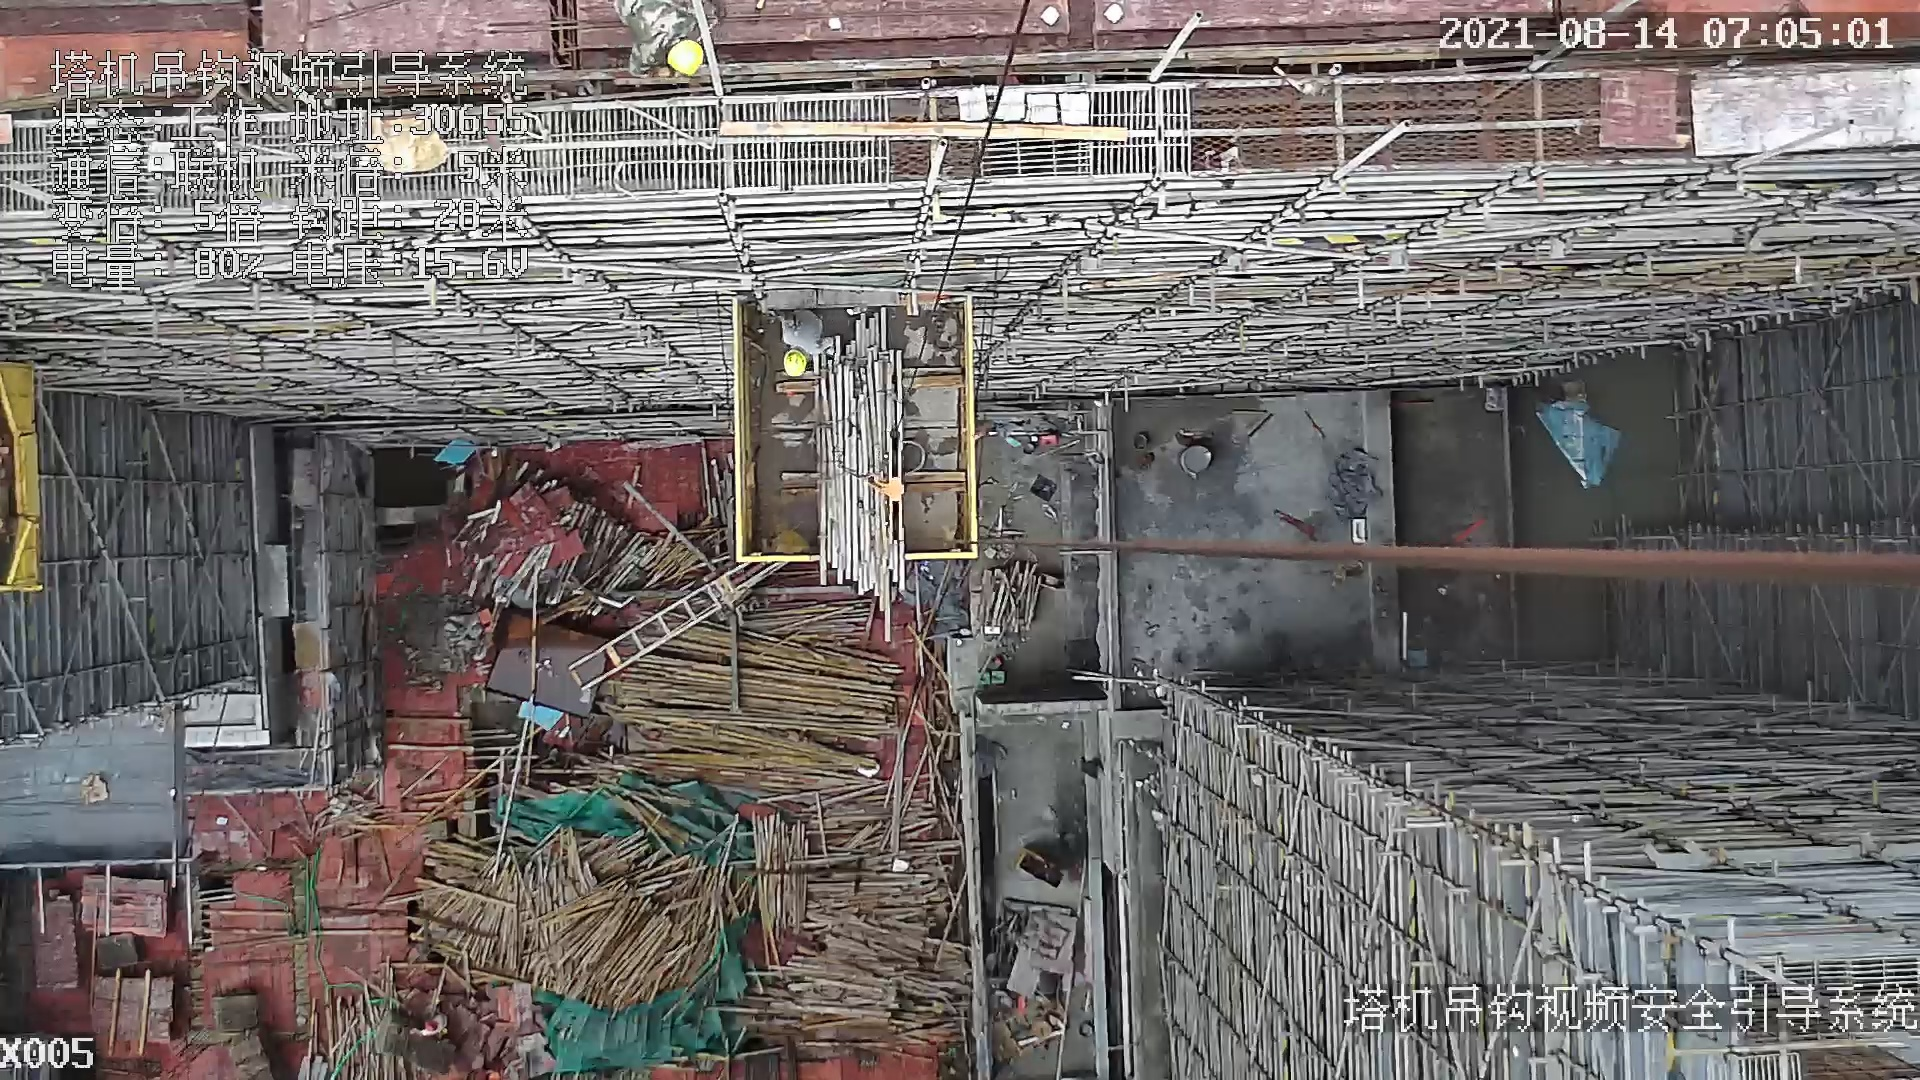helmet: (667, 38, 706, 81), (783, 350, 808, 378)
hook: (864, 427, 910, 542)
person: (610, 1, 709, 85), (772, 305, 840, 374)
